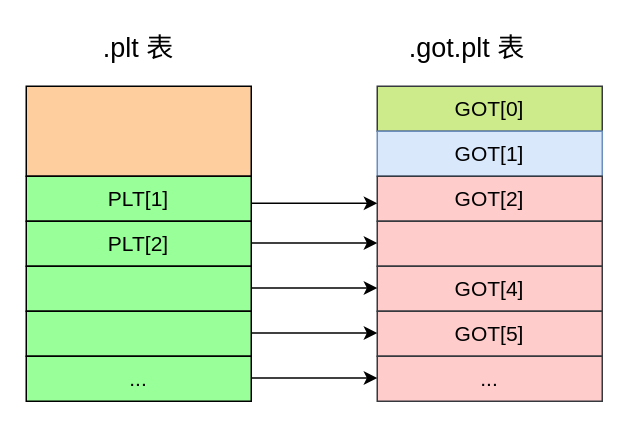
The diagram is 629 pixels wide and 428 high, and some of its shapes have lost their labels. Here are the shapes that lost their labels. From the top down, the centre of each, then its label:
point (138, 130): PLT[0]
point (489, 243): GOT[3]
point (138, 288): PLT[3]
point (138, 333): PLT[4]
